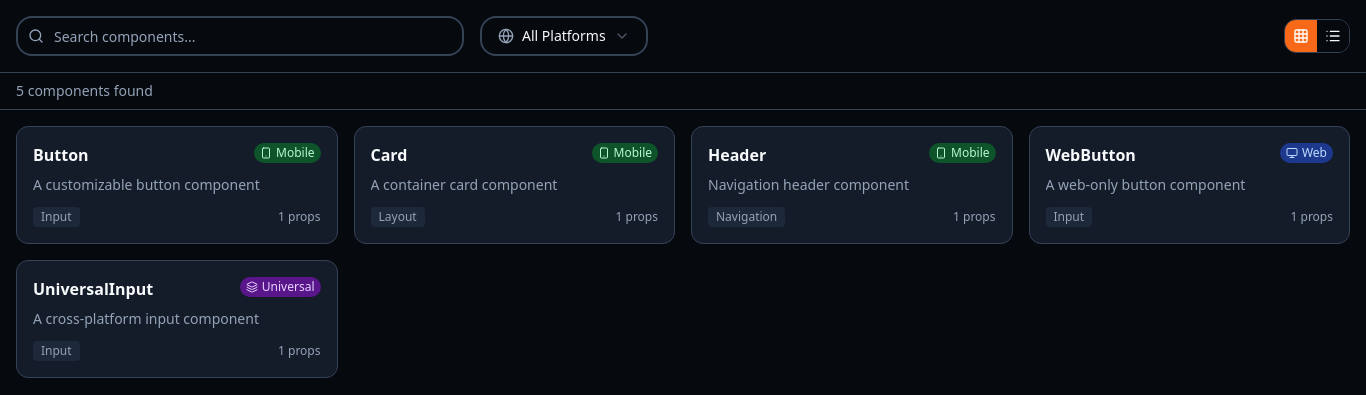
ComponentGallery › clears search when X button is clicked
Type "button" into the field with placeholder "Search components..." at (240, 36), box [16,16,464,56]
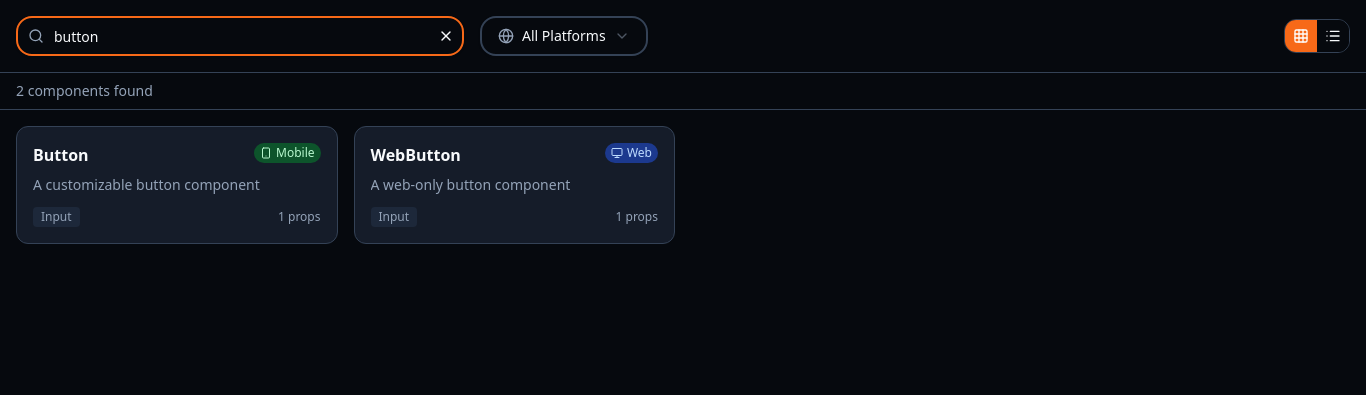
# Find and click clear button (the one inside search input area)
Click the 1st button at (446, 36), box [432,22,460,50]
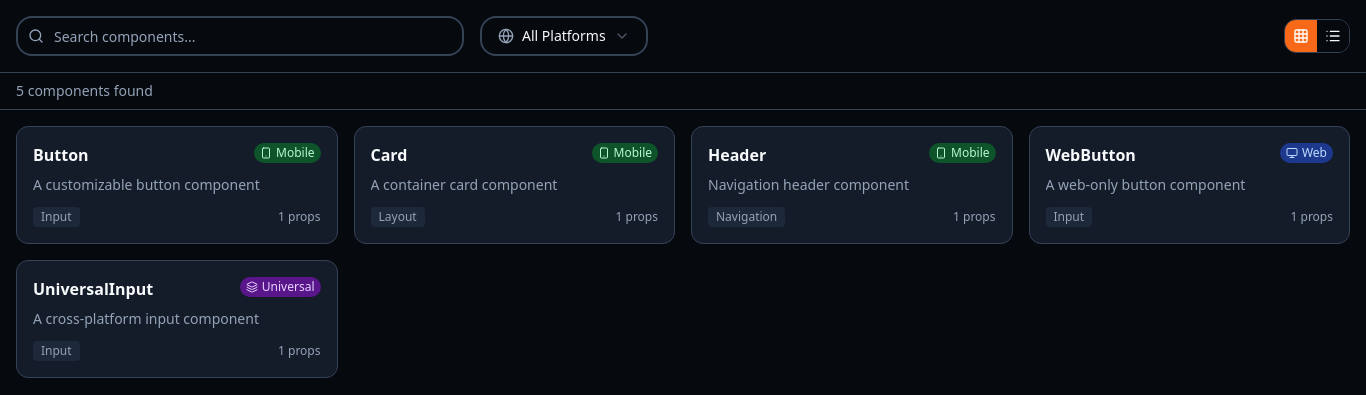
Result: the field with placeholder "Search components..." is empty at [16,16,464,56]
Result: the heading "Card" is shown at [370,143,407,167]
